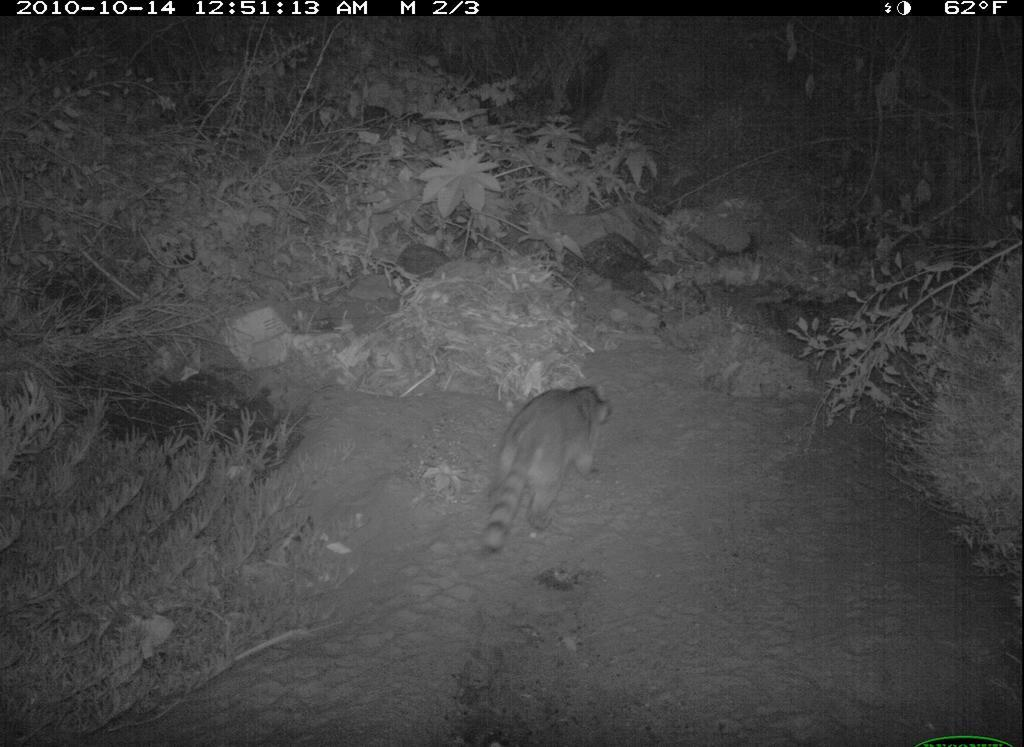raccoon: (472, 381, 617, 565)
